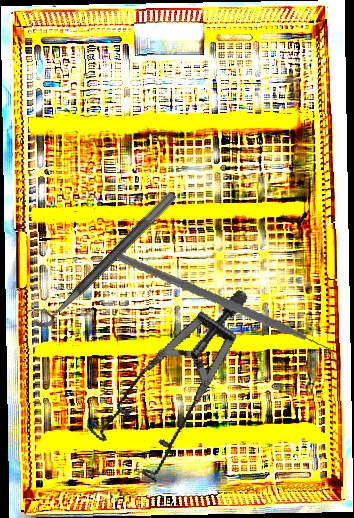Chopper: (117, 226, 338, 398)
Fixation Ring: (23, 179, 179, 335)
Speculum: (62, 288, 299, 498)
